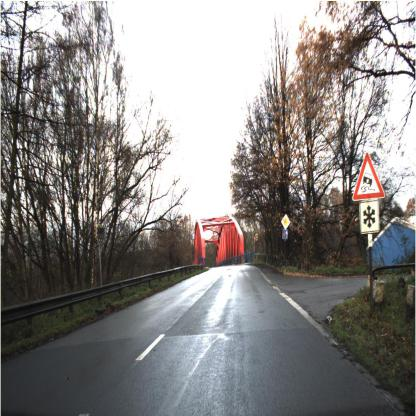danger: (354, 151, 385, 202)
other: (276, 210, 295, 234)
